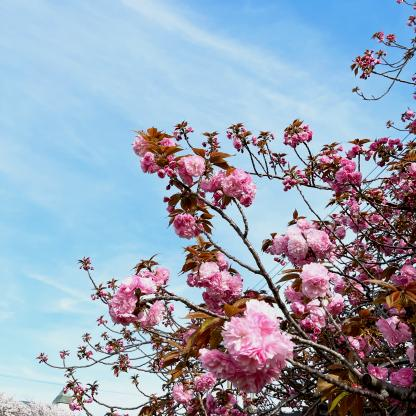YaeSakura: (36, 0, 416, 416), (1, 398, 77, 416)
